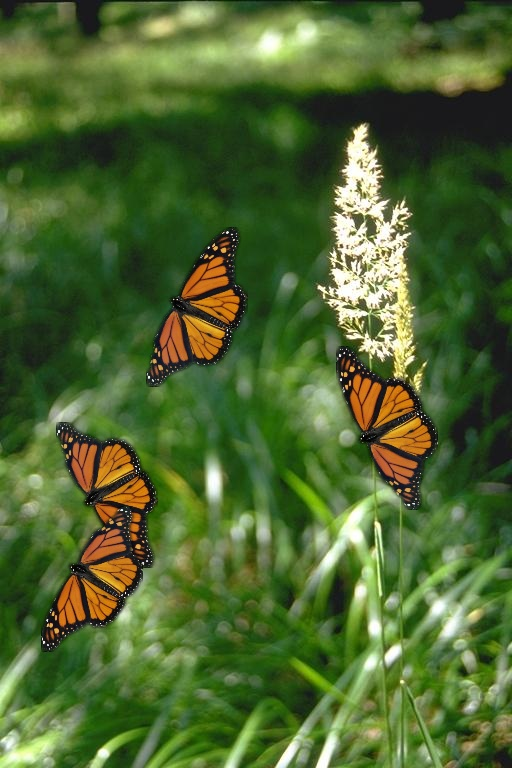danaus_plexippus: (336, 346, 438, 510), (146, 227, 248, 387), (56, 422, 158, 568), (41, 506, 143, 652)
